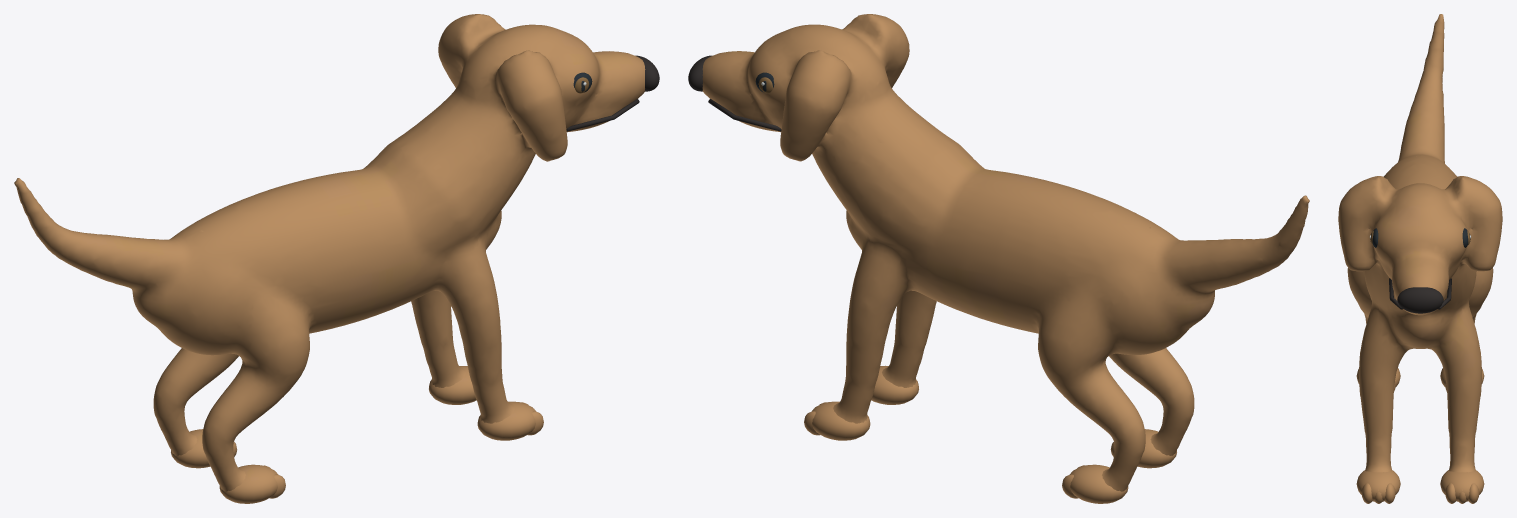
Rendered from nature-dog-medium-standing.glb.
The picture shows the model from 3 angles, left to right: view 1: azimuth 30°, elevation 25°; view 2: azimuth 150°, elevation 25°; view 3: azimuth 270°, elevation 25°; orthographic projection. The views are drawn at different scales.
Visible parts, largest first — view 1: Continuous anatomical skin, Rounded paw.001, Rounded paw, Rounded paw.002, Rounded paw.003; view 2: Continuous anatomical skin, Rounded paw.003, Rounded paw.002, Rounded paw, Rounded paw.001; view 3: Continuous anatomical skin, Nose, Rounded paw, Rounded paw.002.
Part boxes in pixels (x1,y1,x2,y2): Continuous anatomical skin: [14, 14, 645, 491]; Rounded paw.001: [219, 464, 277, 503]; Rounded paw: [477, 401, 535, 440]; Rounded paw.002: [429, 366, 476, 404]; Rounded paw.003: [171, 429, 210, 468]; Continuous anatomical skin: [702, 14, 1309, 491]; Rounded paw.003: [1070, 464, 1128, 503]; Rounded paw.002: [812, 401, 870, 440]; Rounded paw: [871, 365, 918, 404]; Rounded paw.001: [1137, 429, 1176, 468]; Continuous anatomical skin: [1338, 14, 1502, 472]; Nose: [1397, 287, 1443, 313]; Rounded paw: [1356, 470, 1400, 501]; Rounded paw.002: [1440, 470, 1484, 501].
Bounding box in the file's own units: 1.17 × 0.68 × 0.3086.
Materials: 5 (5 with a texture image).
